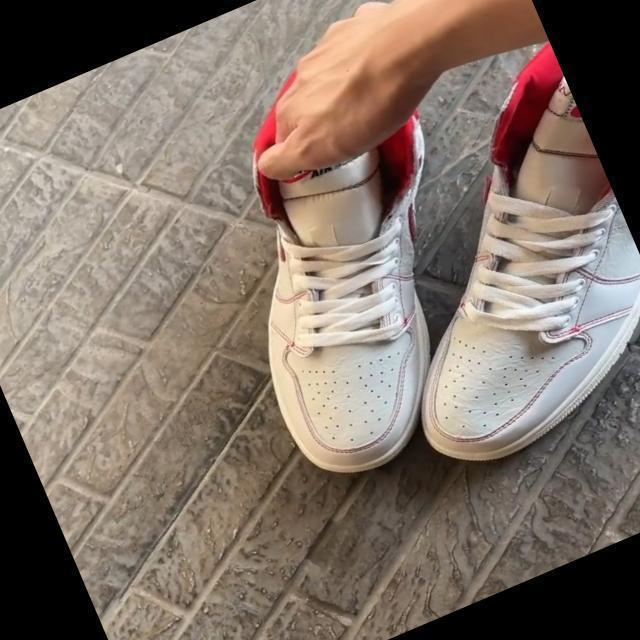nike fake jordan 1: (302, 43, 640, 486), (179, 80, 538, 490)
